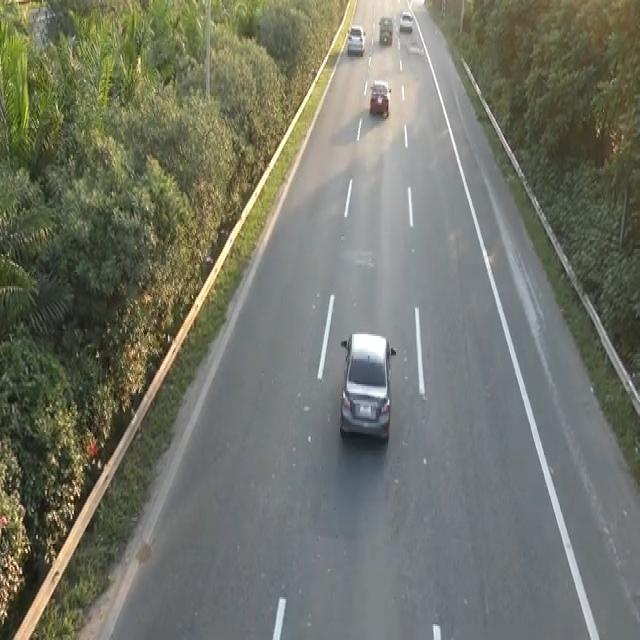bus: (336, 327, 398, 450), (368, 76, 391, 118), (398, 9, 413, 32)
minivan: (378, 14, 393, 43)
